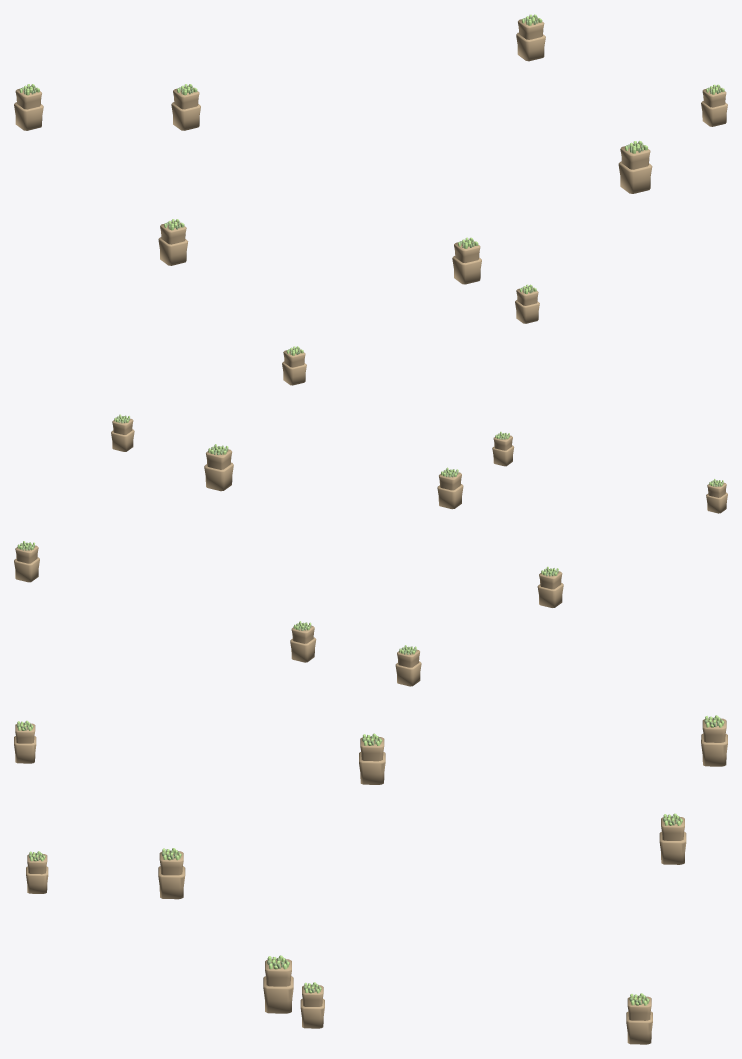
File: toprak_2.fbx
The picture shows the model from 3 angles, top to bottom: view 1: azimuth 30°, elevation 25°; view 2: azimuth 150°, elevation 25°; view 3: azimuth 270°, elevation 25°; orthographic projection. The views are drawn at different scales.
Visible parts, largest first — view 1: Cube_021; view 2: Cube_021; view 3: Cube_021.
Part boxes in pixels (x1=…): Cube_021: x1=14, y1=14, x2=727, y2=385; Cube_021: x1=14, y1=414, x2=727, y2=686; Cube_021: x1=14, y1=715, x2=727, y2=1044.
Bounding box in the file's own units: 3876 × 458 × 3781.
